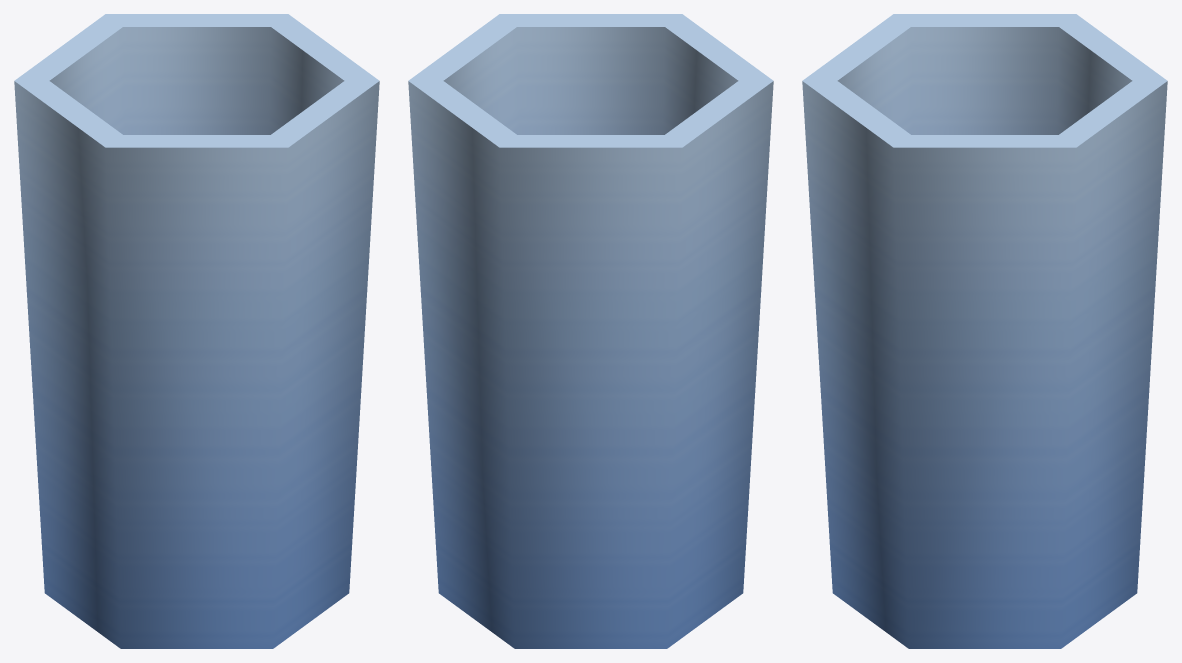
Rendered from glass.fbx.
3 views of the same model, side by side, from view 1: azimuth 30°, elevation 25°; view 2: azimuth 150°, elevation 25°; view 3: azimuth 270°, elevation 25° (orthographic).
Visible parts, largest first — view 1: glass; view 2: glass; view 3: glass.
Part boxes in pixels (x1,y1,x2,y2): glass: (14, 14, 379, 648); glass: (408, 14, 773, 648); glass: (802, 14, 1167, 648).
Bounding box in the file's own units: 0.0399 × 0.0461 × 0.0713.
